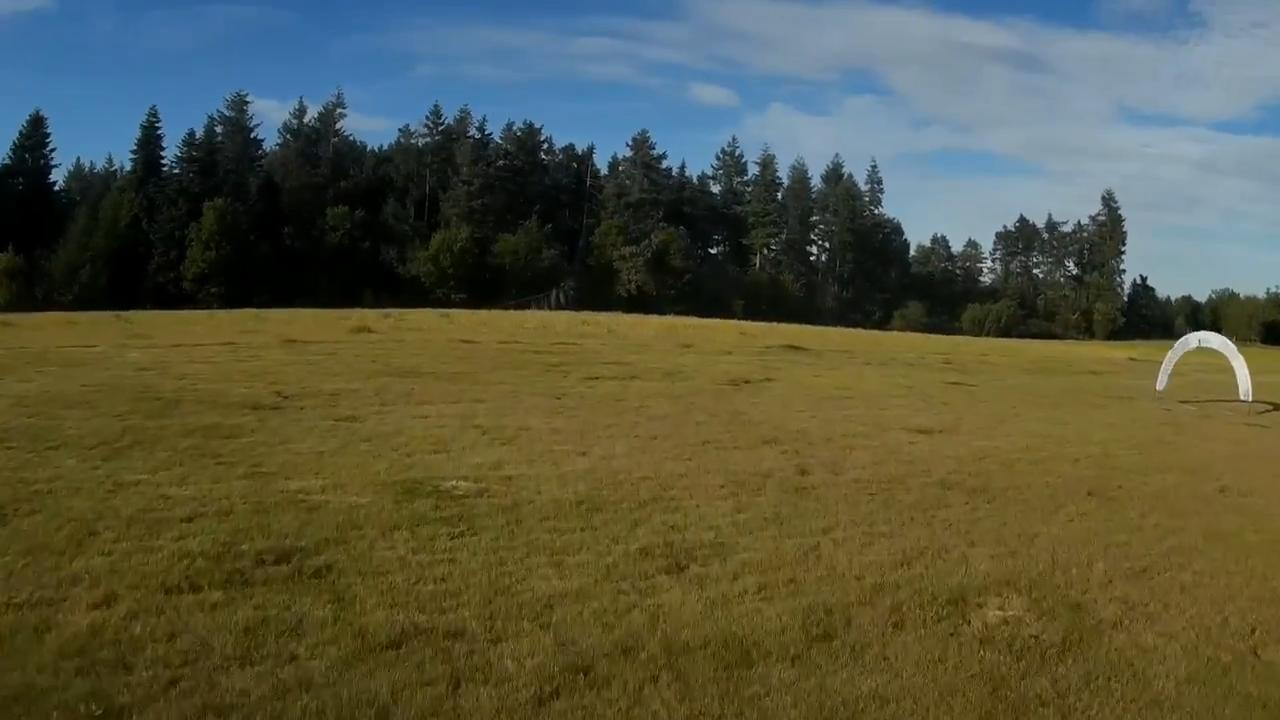gate: (1153, 329, 1250, 402)
